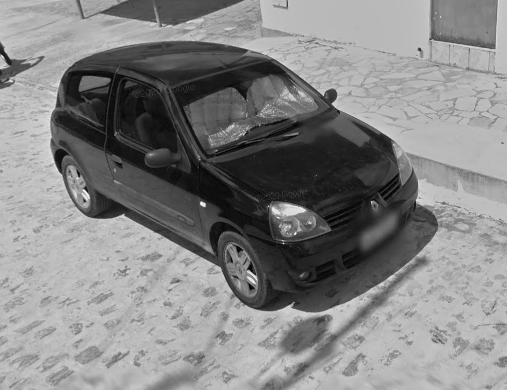car: (48, 39, 421, 312)
